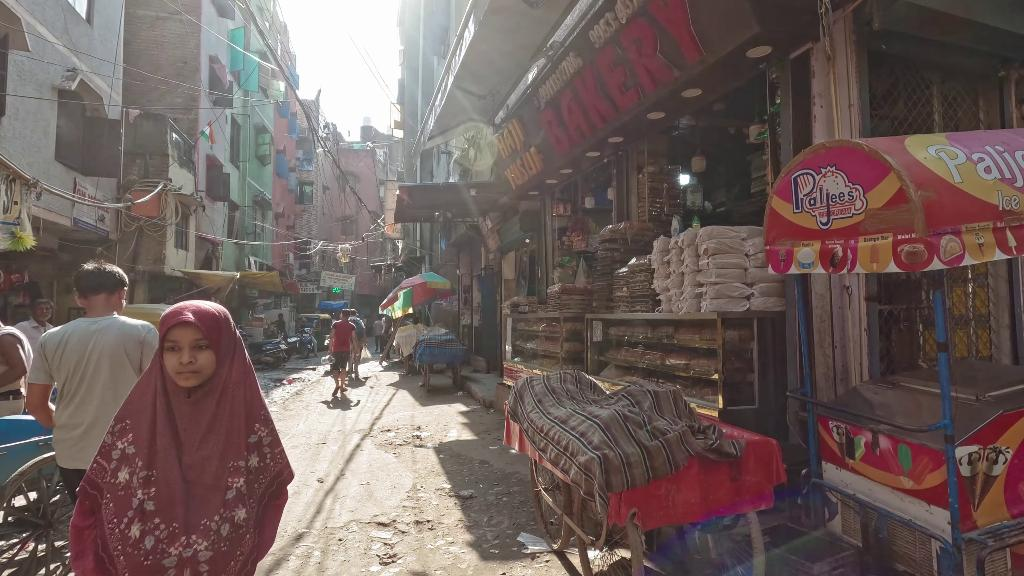dustbin: (359, 344, 373, 360)
